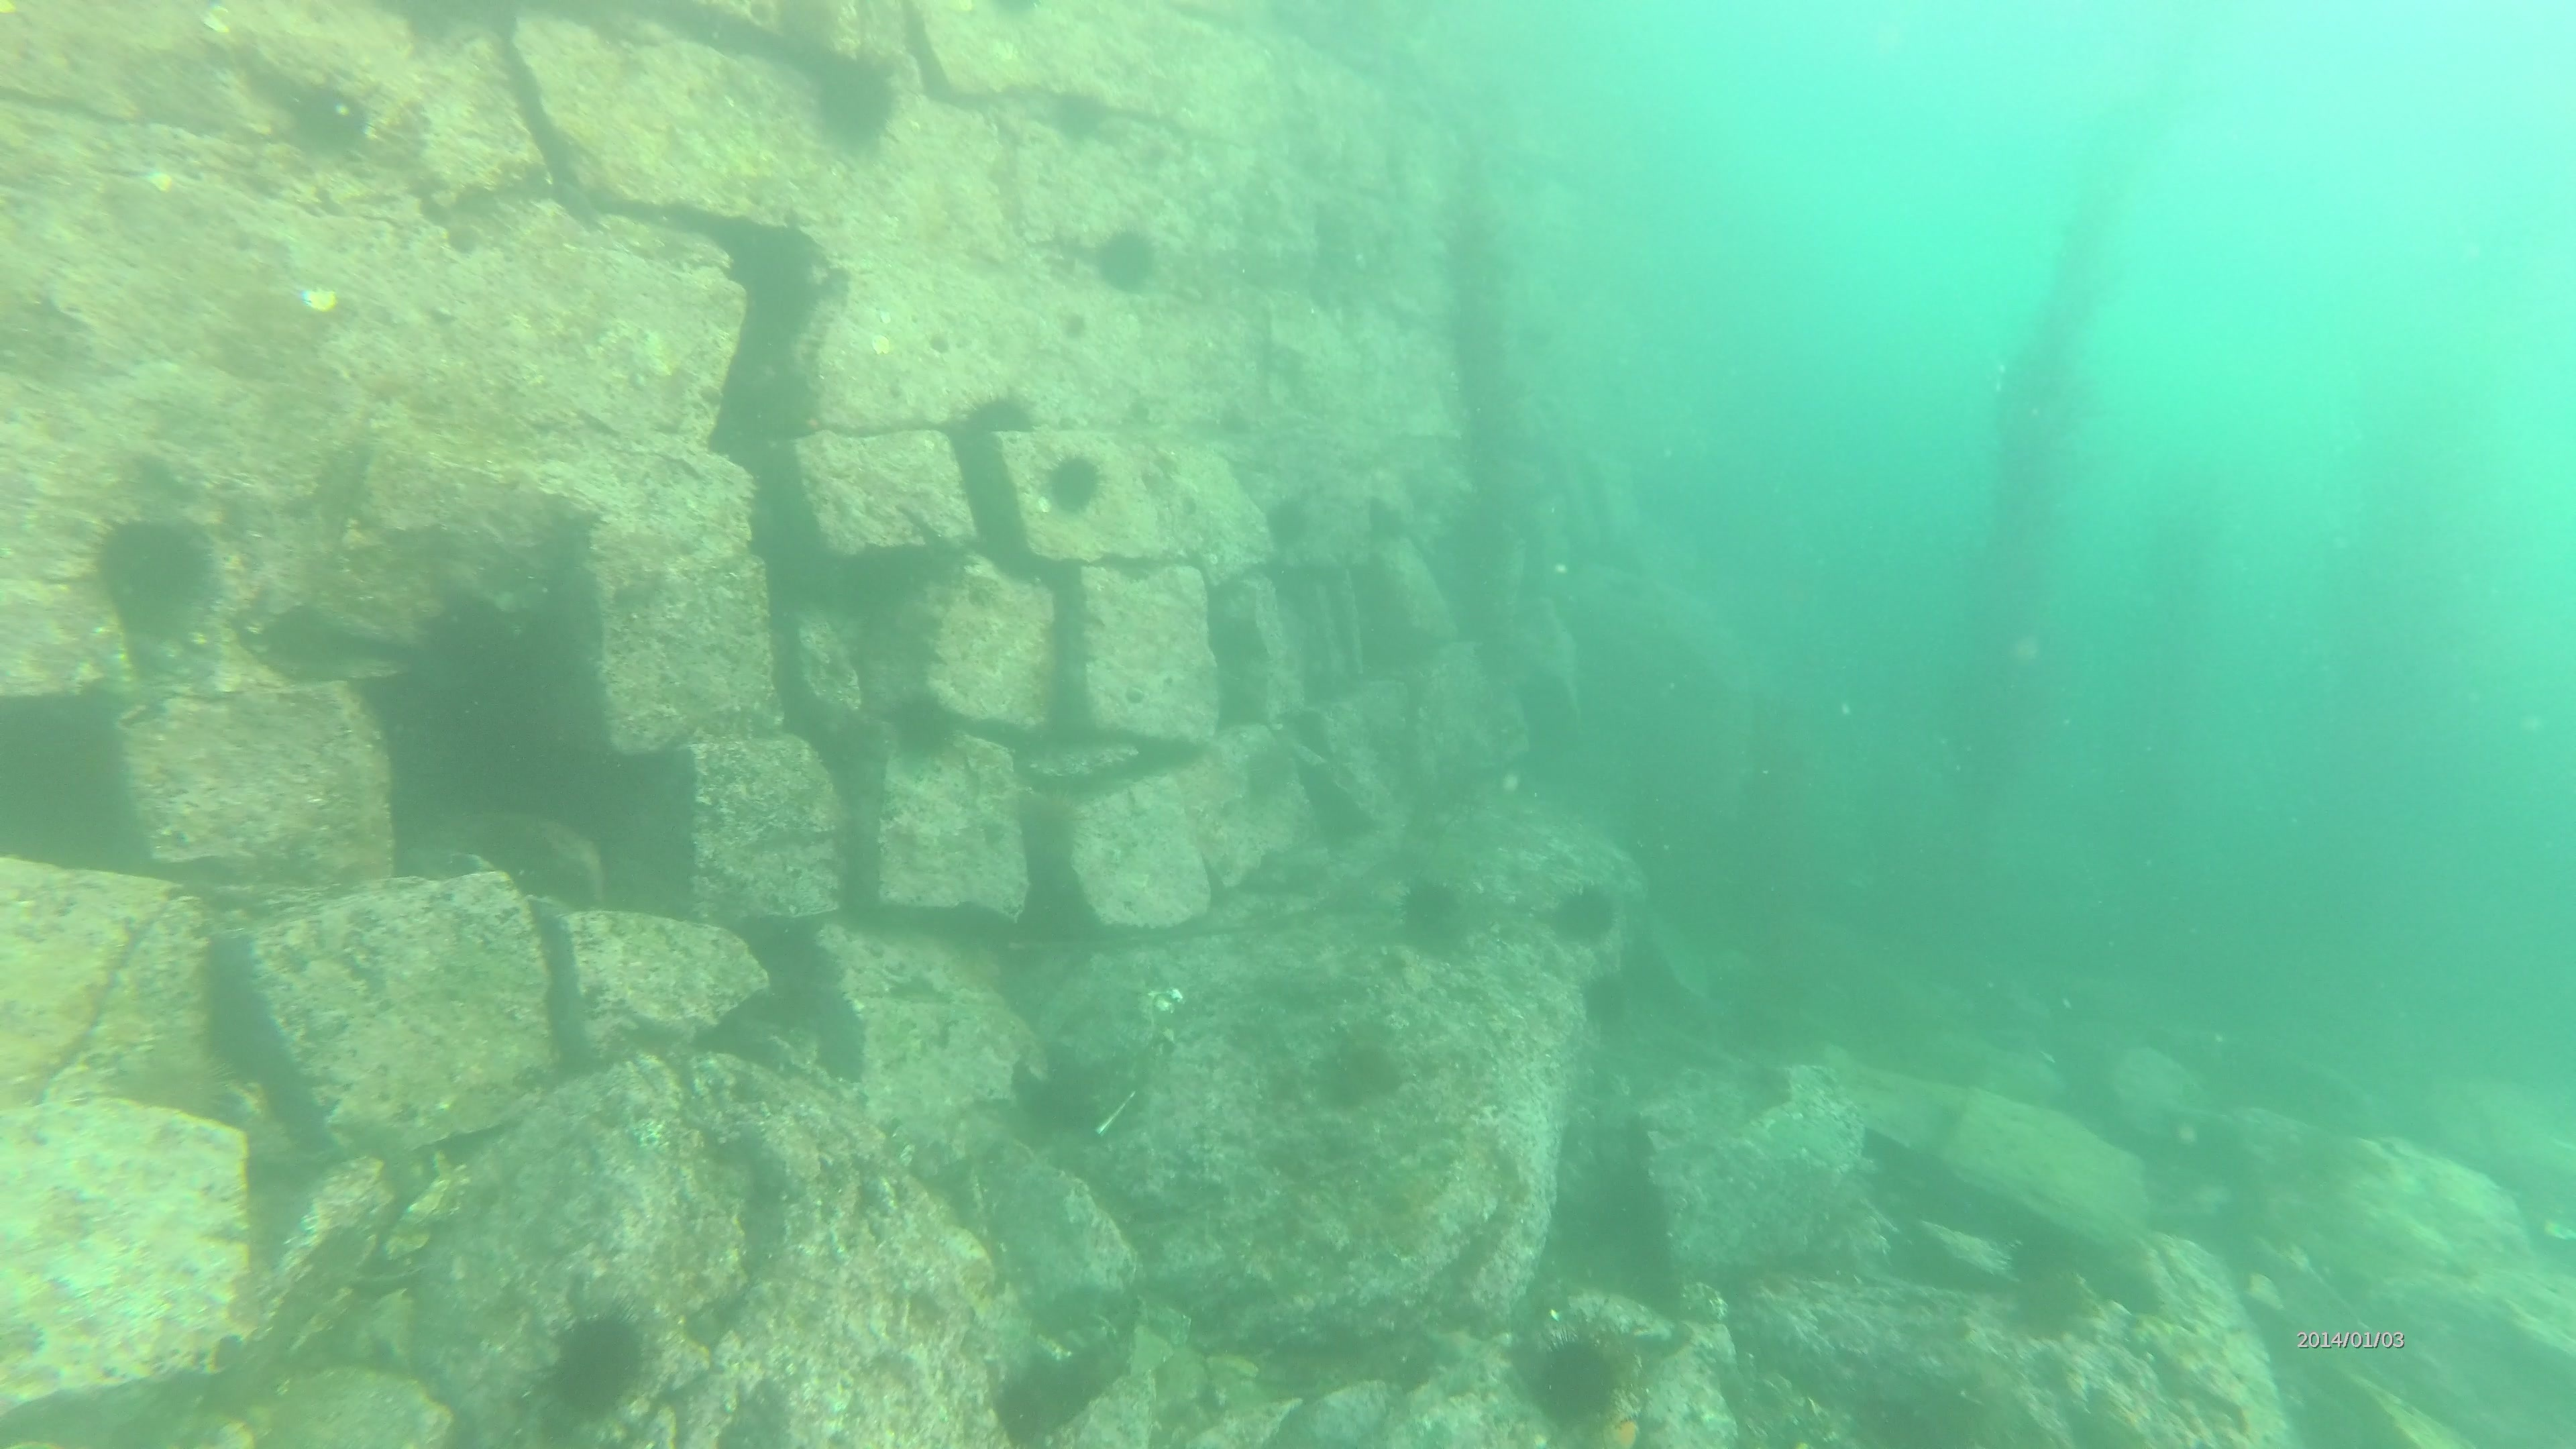echinus: (85, 511, 219, 646), (534, 1307, 656, 1430), (1523, 1327, 1635, 1438), (809, 48, 902, 143), (1304, 1033, 1403, 1122), (883, 690, 970, 777), (280, 80, 373, 154), (1398, 869, 1470, 952), (1040, 81, 1116, 159), (1552, 874, 1624, 954), (1355, 479, 1419, 561), (1039, 451, 1108, 525), (950, 384, 1019, 458), (1235, 736, 1306, 807), (1093, 219, 1162, 292), (1253, 487, 1322, 552)
